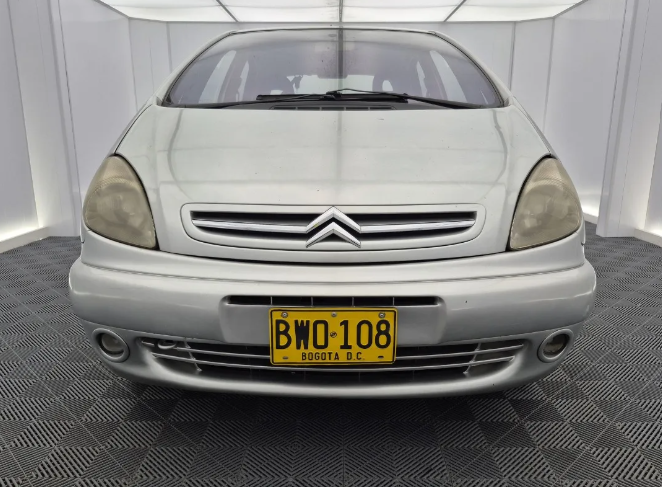placa: (269, 308, 397, 365)
